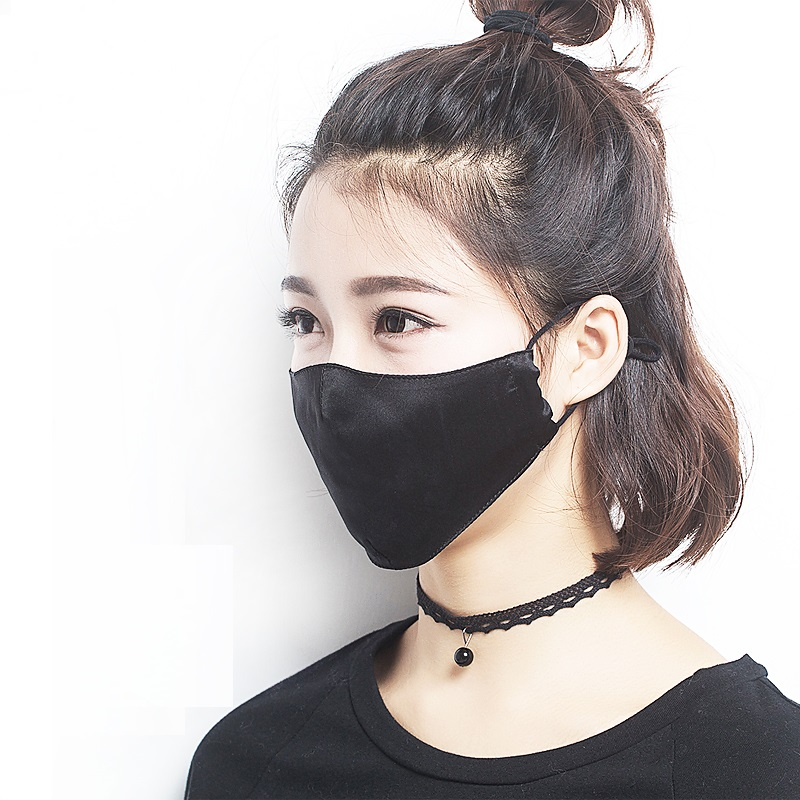face_mask: (275, 170, 534, 554)
